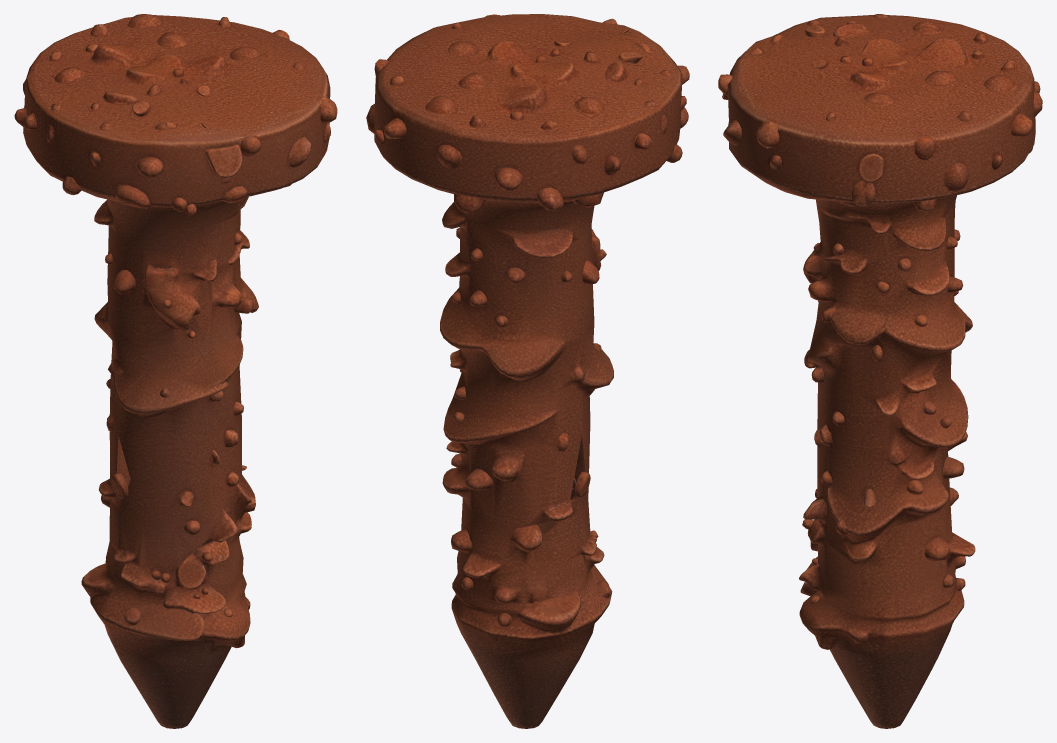
Rendered from nail.glb.
3 renders of one model, left to right at view 1: azimuth 30°, elevation 25°; view 2: azimuth 150°, elevation 25°; view 3: azimuth 270°, elevation 25°, orthographic.
Visible parts, largest first — view 1: tripo_node_44439934-ea51-456a-9508-823eafde9835; view 2: tripo_node_44439934-ea51-456a-9508-823eafde9835; view 3: tripo_node_44439934-ea51-456a-9508-823eafde9835.
Boxes of the visible parts, x1,y1,x2,y2 form: tripo_node_44439934-ea51-456a-9508-823eafde9835: (14,14,337,728); tripo_node_44439934-ea51-456a-9508-823eafde9835: (366,14,689,728); tripo_node_44439934-ea51-456a-9508-823eafde9835: (718,14,1042,728).
Bounding box in the file's own units: 0.4284 × 1 × 0.4411.
Materials: 1 (1 with a texture image).
